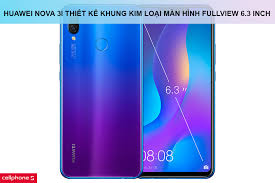huawei: (58, 22, 138, 178)
